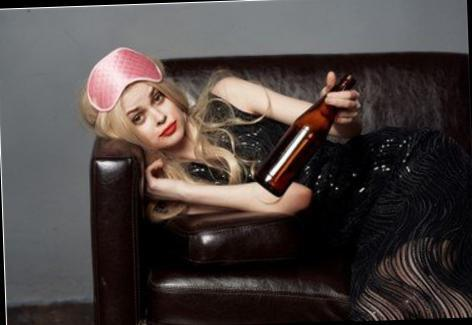Drunk: (125, 83, 183, 150)
